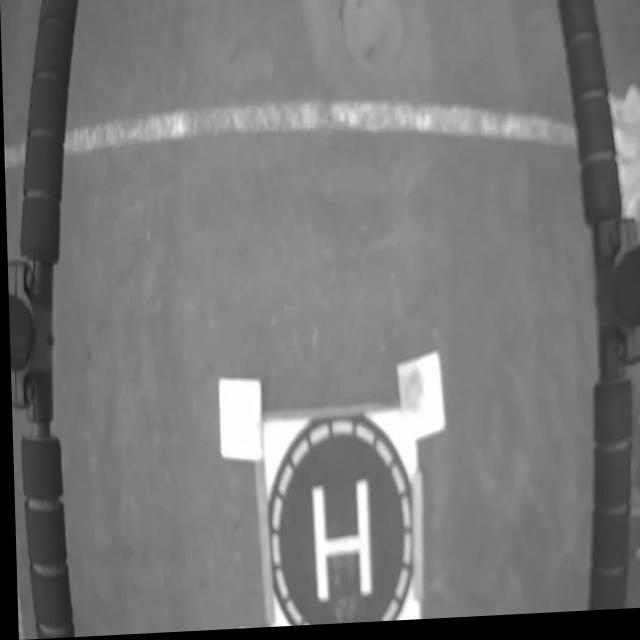Helipad: (307, 479, 370, 607)
